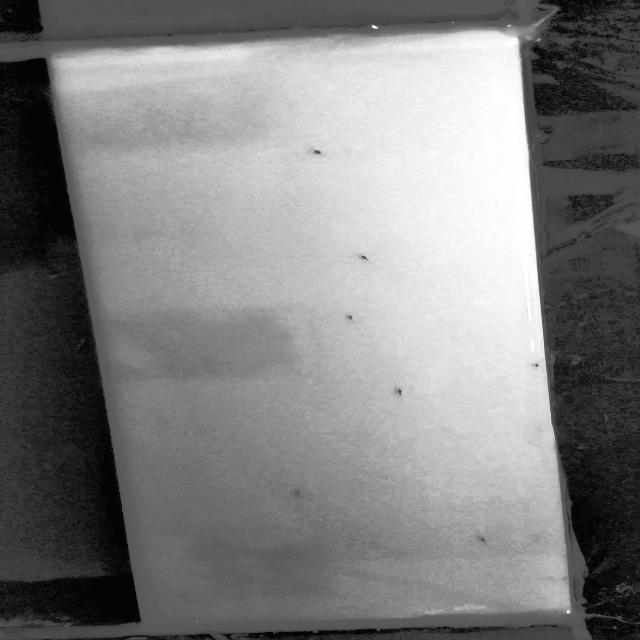shrimp: (381, 380, 416, 404), (470, 529, 504, 549), (348, 248, 377, 267), (301, 144, 333, 160), (340, 310, 362, 329), (518, 357, 545, 372), (287, 484, 306, 502)
